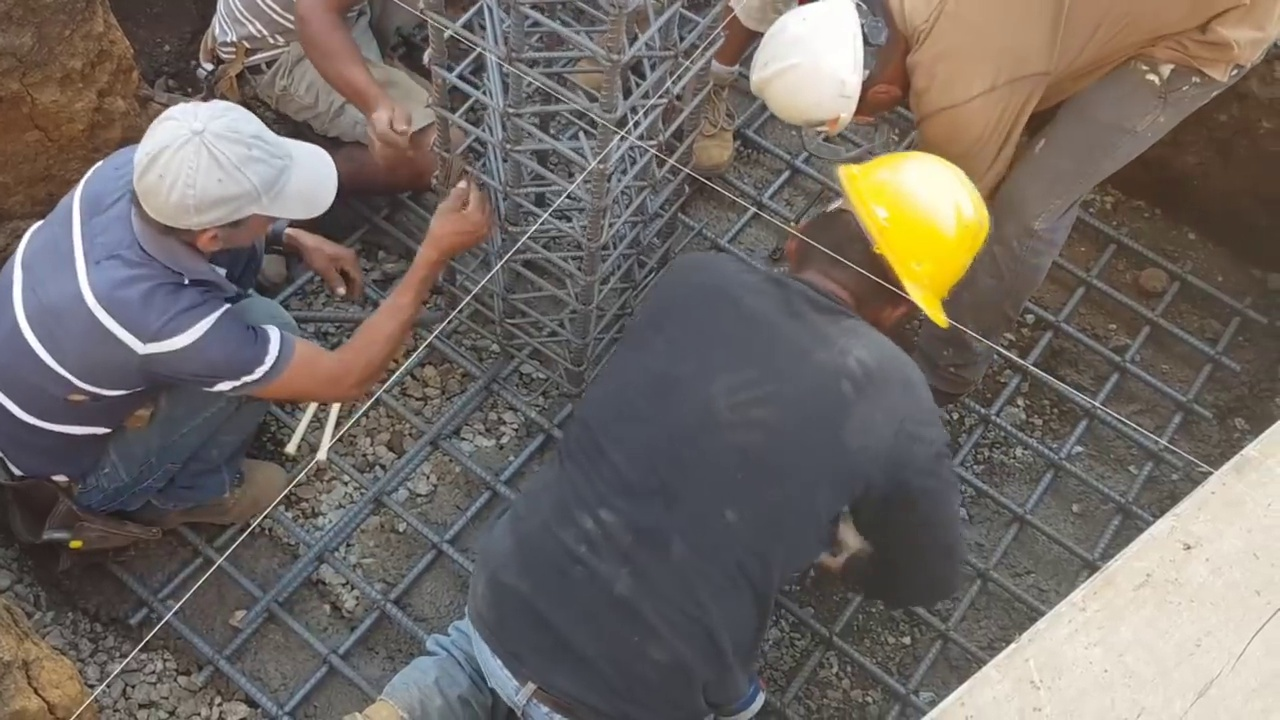helmet: (752, 1, 885, 126)
helmet-off: (121, 105, 342, 278)
helmet-on: (769, 147, 992, 351), (813, 149, 991, 354), (750, 2, 918, 135)
person: (348, 149, 987, 719), (0, 107, 484, 543), (745, 3, 1276, 385), (194, 2, 470, 195)
